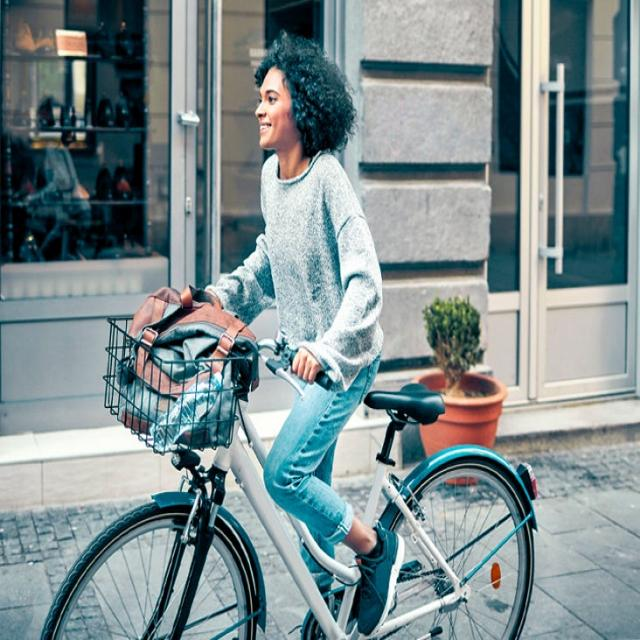bicycle: (28, 271, 573, 640)
